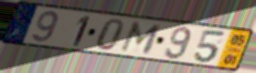0: (95, 18, 124, 52)
1: (72, 15, 91, 48)
5: (192, 29, 228, 65)
9: (163, 26, 193, 61), (31, 10, 61, 44)
M: (118, 21, 164, 55)
